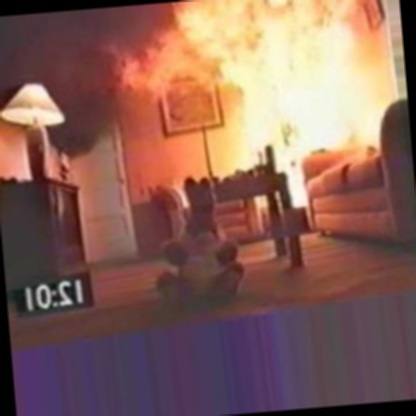fire: (153, 0, 416, 227)
